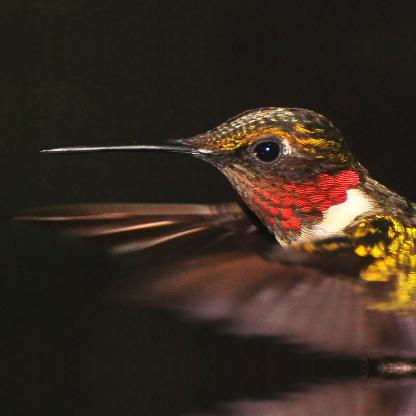Bird: (12, 104, 416, 359)
